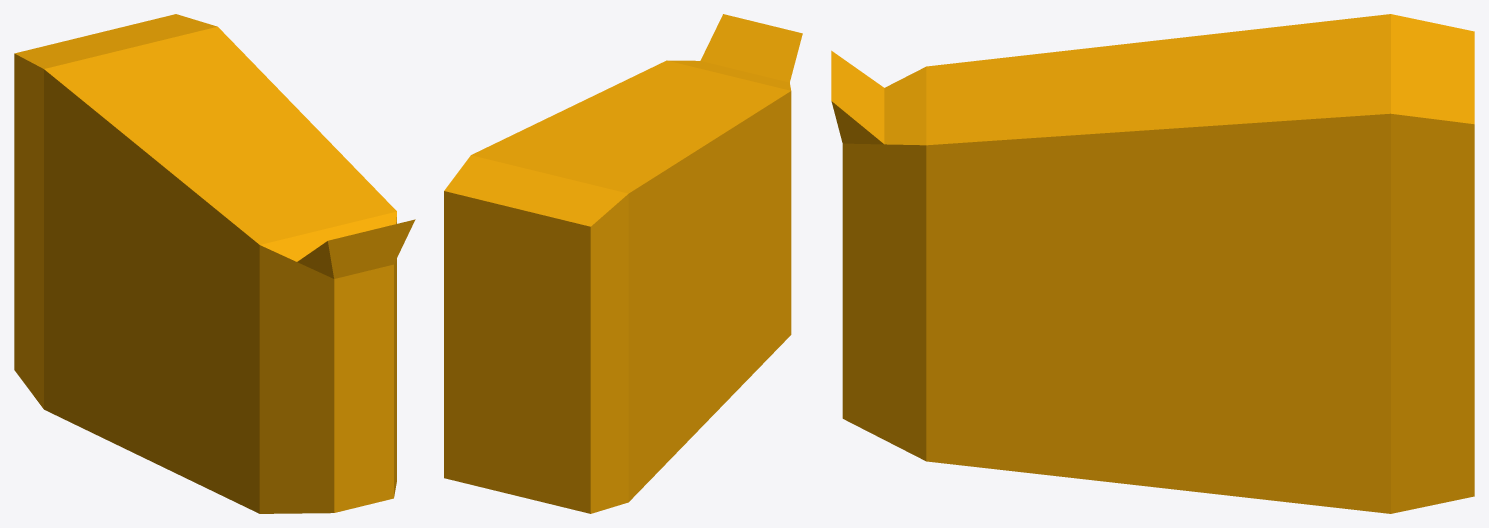
Rendered from BakingPowderBag.obj.
3 views of the same model, side by side, from view 1: azimuth 30°, elevation 25°; view 2: azimuth 150°, elevation 25°; view 3: azimuth 270°, elevation 25° (orthographic). The views are drawn at different scales.
Parts seen in each view (by area): view 1: bag.000_bag.001; view 2: bag.000_bag.001; view 3: bag.000_bag.001.
Boxes of the visible parts, <box> form: bag.000_bag.001: <box>14,14,415,513</box>; bag.000_bag.001: <box>444,14,802,513</box>; bag.000_bag.001: <box>831,14,1474,513</box>.
Size of the model in its own units: 0.1101 by 0.2059 by 0.2999.
